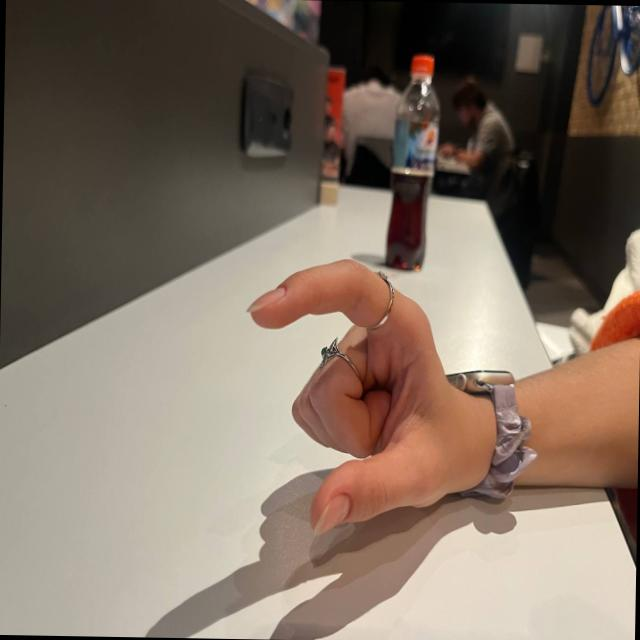uh: (231, 227, 464, 542)
